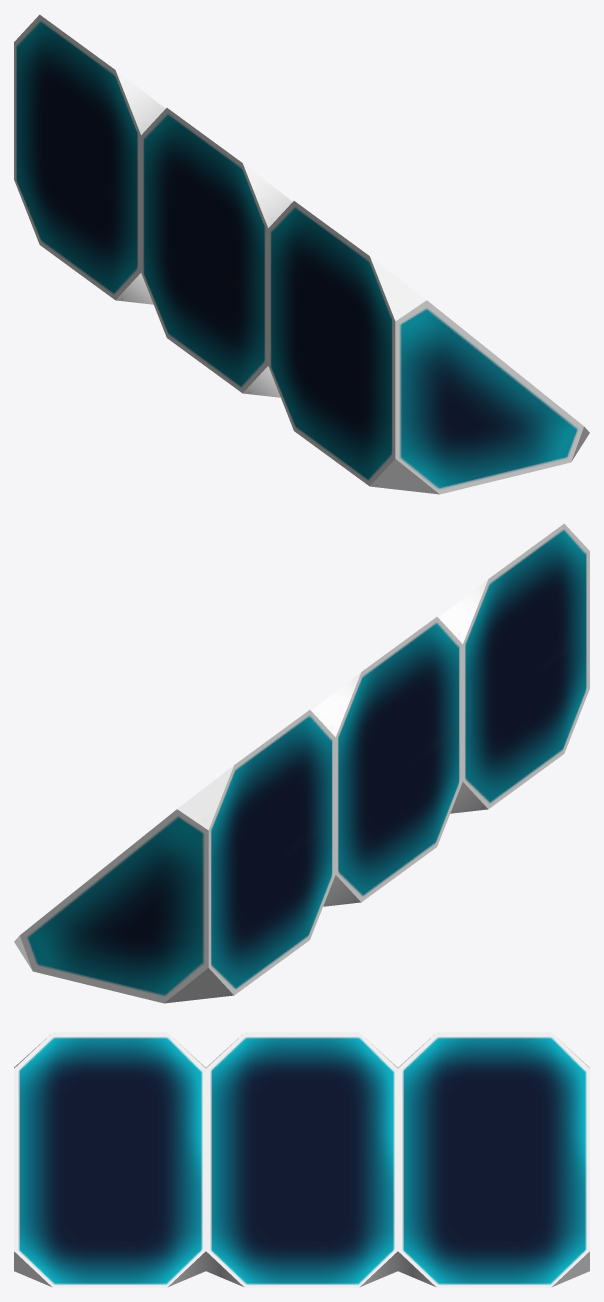
The model's file is MG-ChJ-CS-03FangPo-3.FBX.
3 renders of one model, top to bottom at view 1: azimuth 30°, elevation 25°; view 2: azimuth 150°, elevation 25°; view 3: azimuth 270°, elevation 25°, orthographic. The views are drawn at different scales.
Parts seen in each view (by area): view 1: MG-ChJ-CS-03FangPo-3; view 2: MG-ChJ-CS-03FangPo-3; view 3: MG-ChJ-CS-03FangPo-3.
Part boxes in pixels (box(x1,y1,x2,y2)): MG-ChJ-CS-03FangPo-3: box(14, 14, 589, 494); MG-ChJ-CS-03FangPo-3: box(14, 523, 589, 1003); MG-ChJ-CS-03FangPo-3: box(14, 1032, 589, 1287).
Size of the model in its own units: 39.37 by 39.37 by 118.
